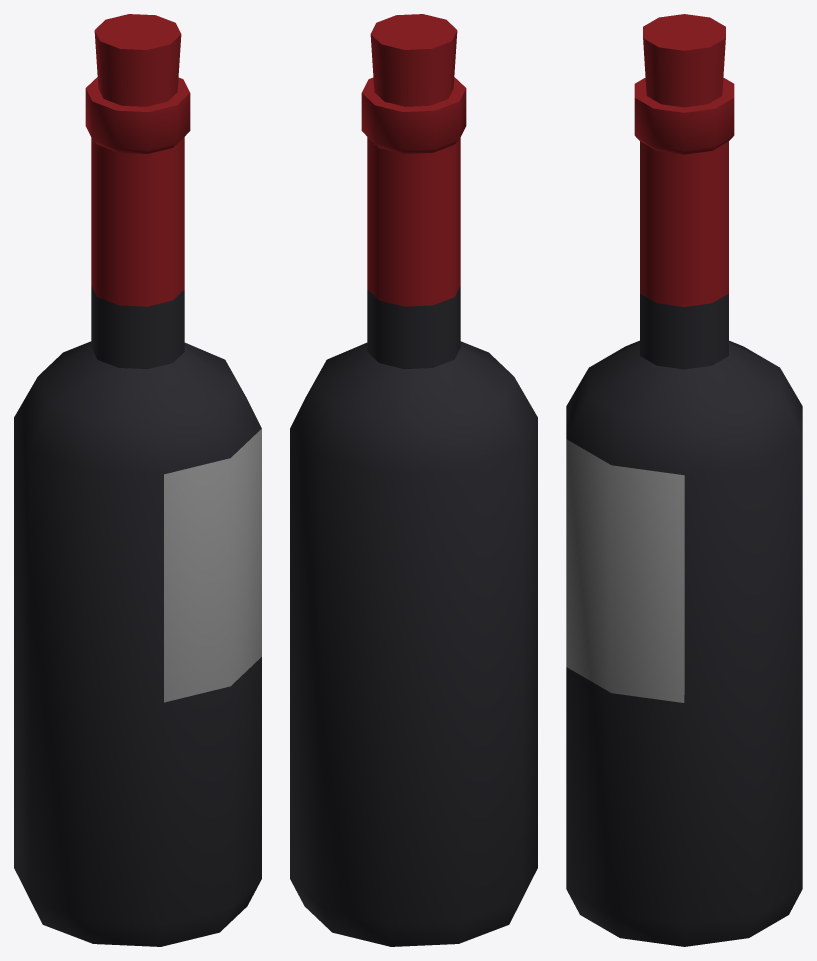
Rendered from bottle_wine_01.fbx.
The picture shows the model from 3 angles, left to right: view 1: azimuth 30°, elevation 25°; view 2: azimuth 150°, elevation 25°; view 3: azimuth 270°, elevation 25°; orthographic projection.
Visible parts, largest first — view 1: bottle_wine_01; view 2: bottle_wine_01; view 3: bottle_wine_01.
Boxes of the visible parts, x1,y1,x2,y2 form: bottle_wine_01: (14,14,261,946); bottle_wine_01: (290,14,537,946); bottle_wine_01: (566,14,802,946).
Size of the model in its own units: 21.4 by 82.4 by 20.35.
